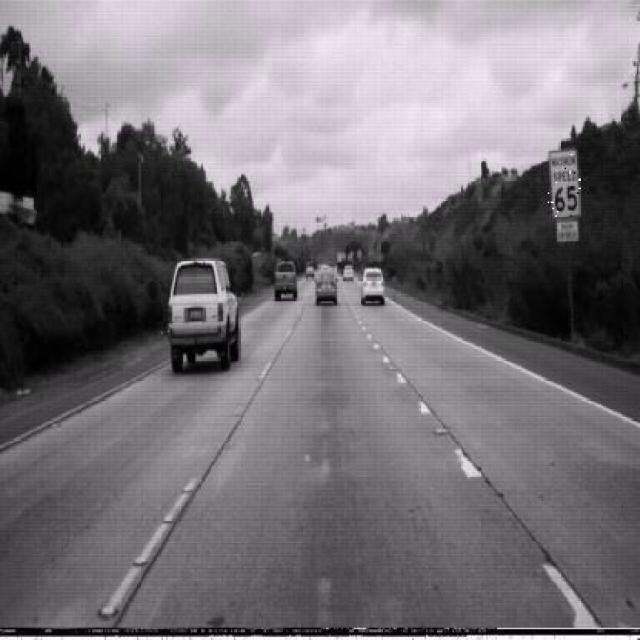speedLimit65: (548, 147, 582, 220)
